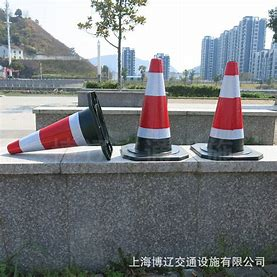traffic_cone: (113, 51, 190, 164), (189, 57, 268, 164), (5, 95, 114, 163)
